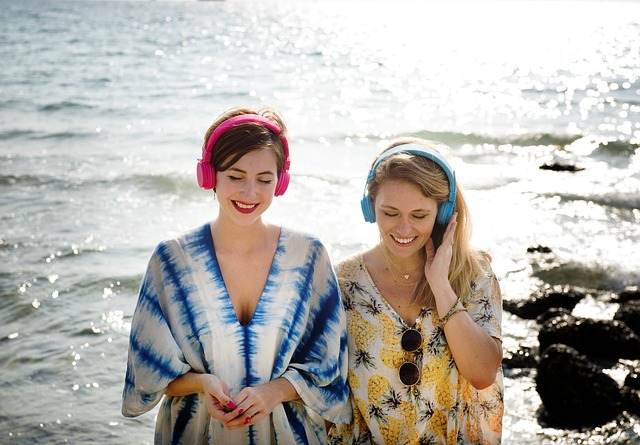headphones: (362, 144, 457, 227), (197, 115, 291, 198)
